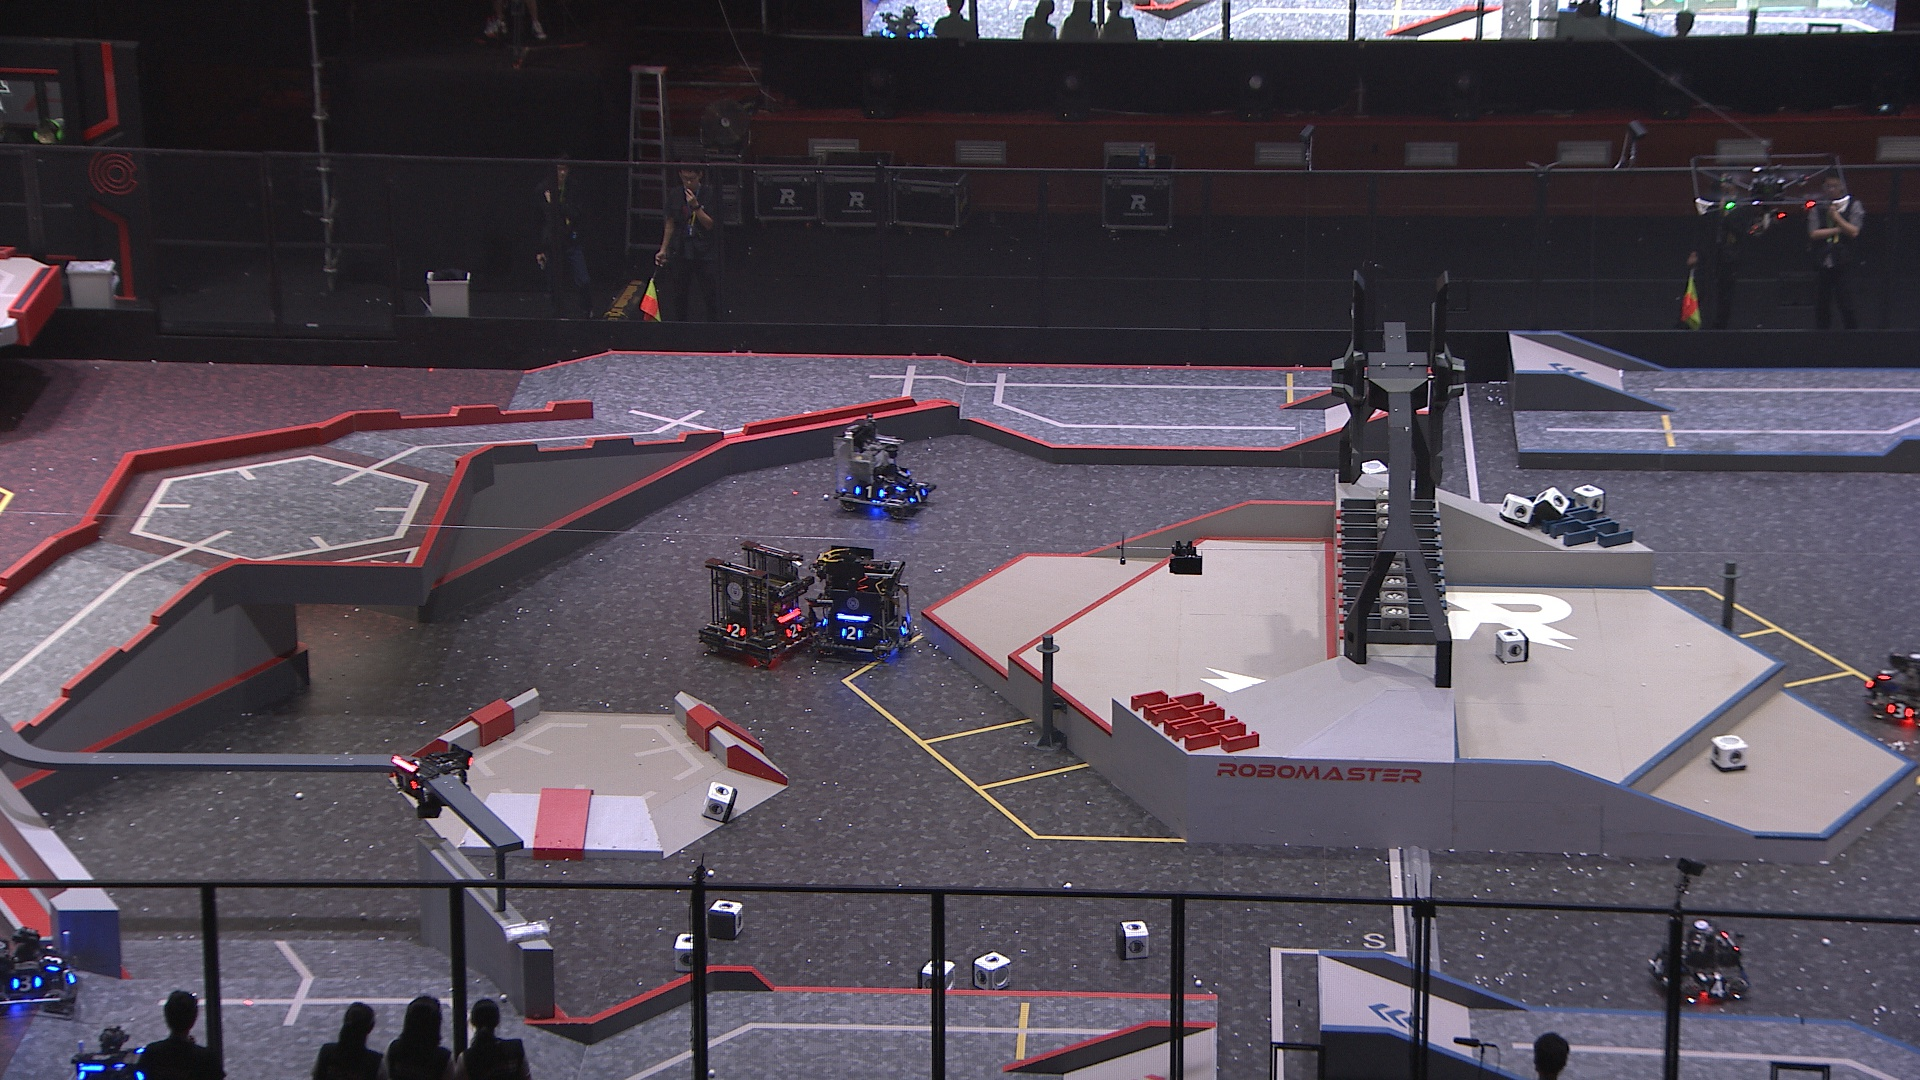armor: (7, 972, 41, 993), (851, 481, 887, 500), (392, 770, 419, 794), (40, 949, 65, 975), (1884, 699, 1915, 719), (1704, 978, 1731, 1000), (723, 621, 750, 641), (1647, 949, 1664, 977), (783, 618, 804, 641), (906, 484, 927, 506), (1876, 659, 1899, 680), (840, 624, 864, 644), (897, 617, 913, 637)
car: (699, 535, 818, 669), (808, 541, 916, 665), (829, 410, 944, 520), (1643, 916, 1754, 1010), (71, 1022, 175, 1080), (1863, 633, 1920, 728)
ignore: (872, 5, 944, 41)
watcher: (386, 744, 477, 820)
